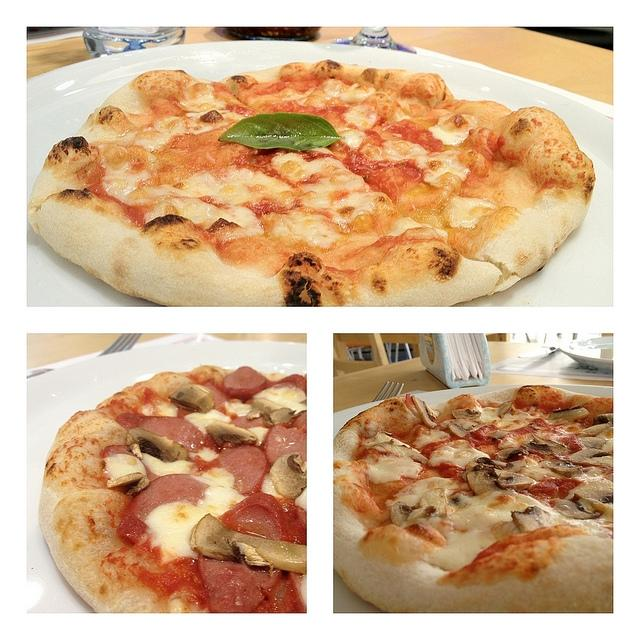mushroom: (191, 512, 306, 573), (466, 457, 536, 496), (125, 427, 188, 462), (268, 451, 306, 499), (168, 384, 215, 414), (246, 401, 298, 427), (206, 420, 257, 446), (408, 488, 448, 521), (511, 506, 550, 532), (523, 434, 571, 454), (554, 499, 599, 520), (564, 448, 613, 467), (574, 488, 614, 504), (107, 472, 143, 488), (548, 406, 589, 420)
